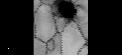good_void: (51, 0, 81, 22)
